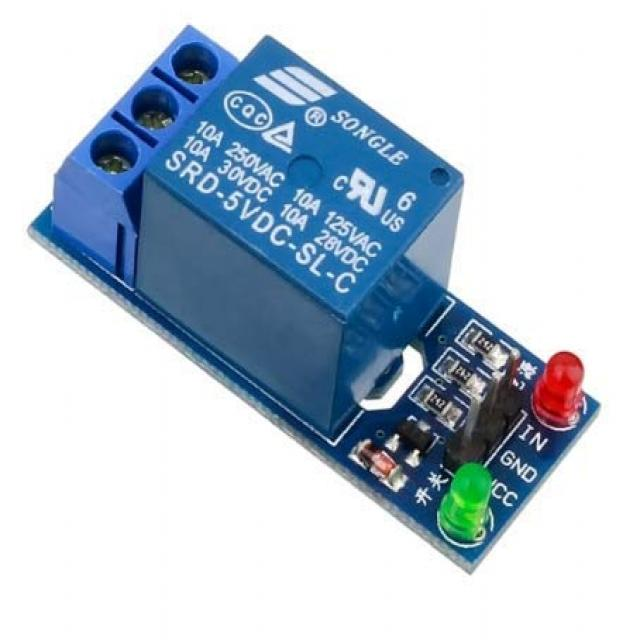4439: (388, 410, 438, 462)
LED: (534, 347, 592, 444), (444, 465, 499, 560)
connector -5v-: (59, 19, 231, 228), (448, 340, 522, 446)
diode -D1-: (352, 434, 402, 485)
relay: (144, 33, 463, 379)
resistor IR1: (464, 323, 512, 359), (419, 383, 458, 416), (444, 359, 482, 390)
